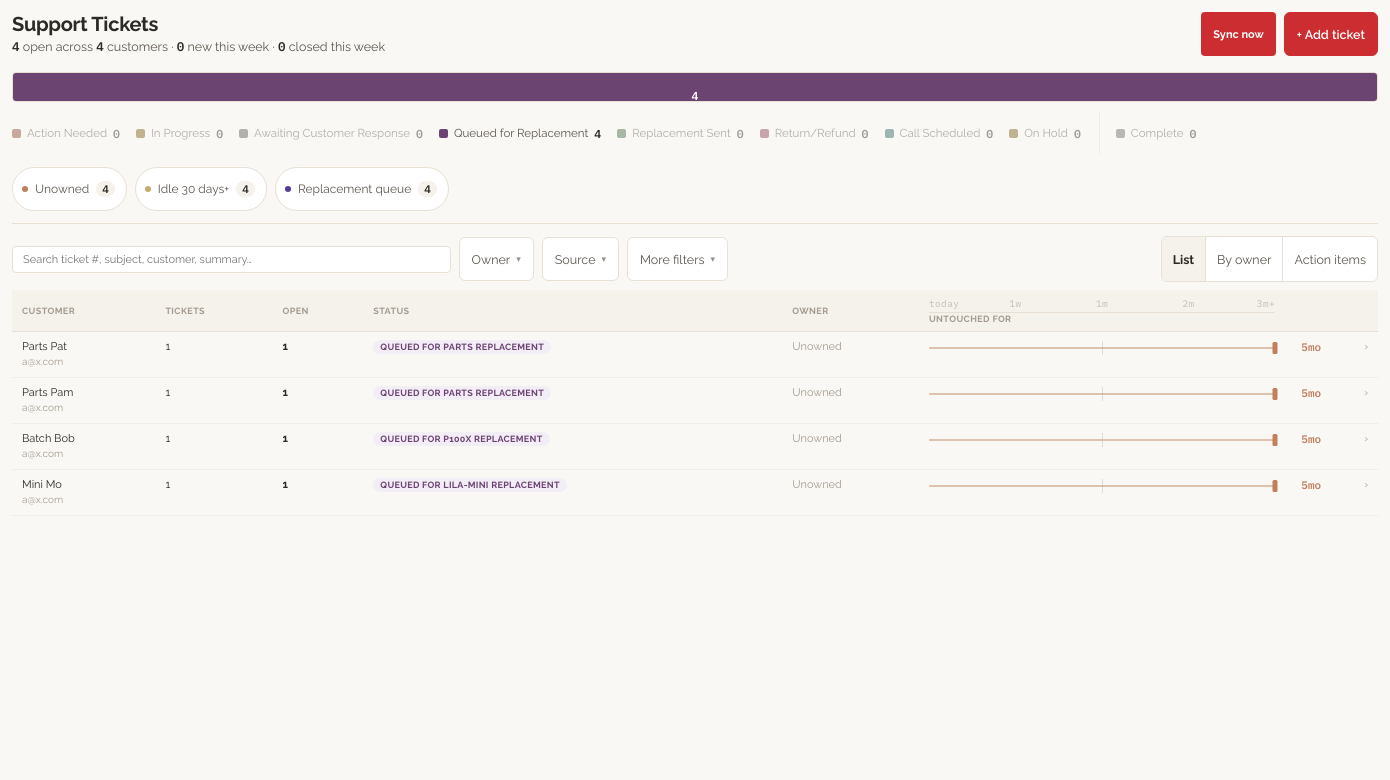
Test case: SupportTab — parts vs batch replacement chips › narrows to parts only
Click the button "Replacement queue 4": point(362, 189) [275,167,449,211]
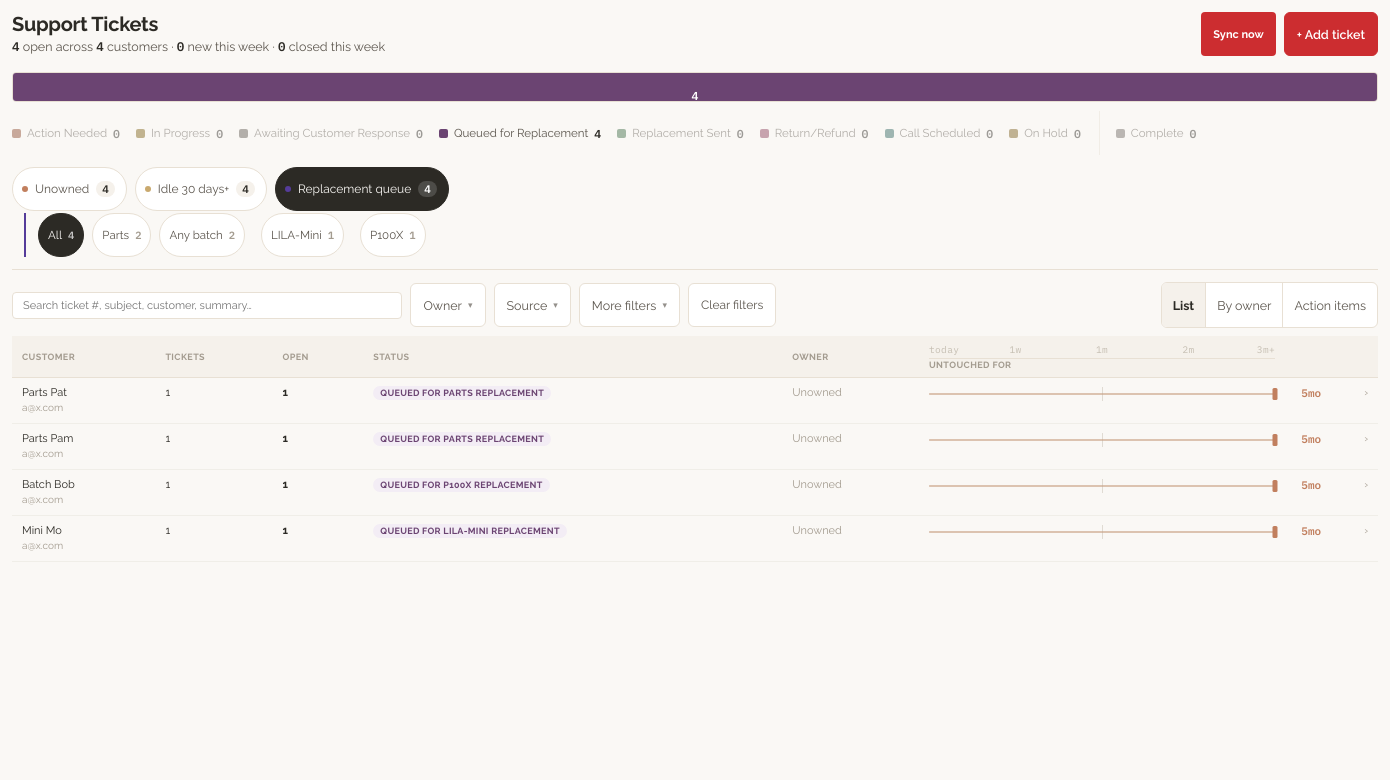
Click the button named "Parts2": point(122, 235) [92,213,151,257]
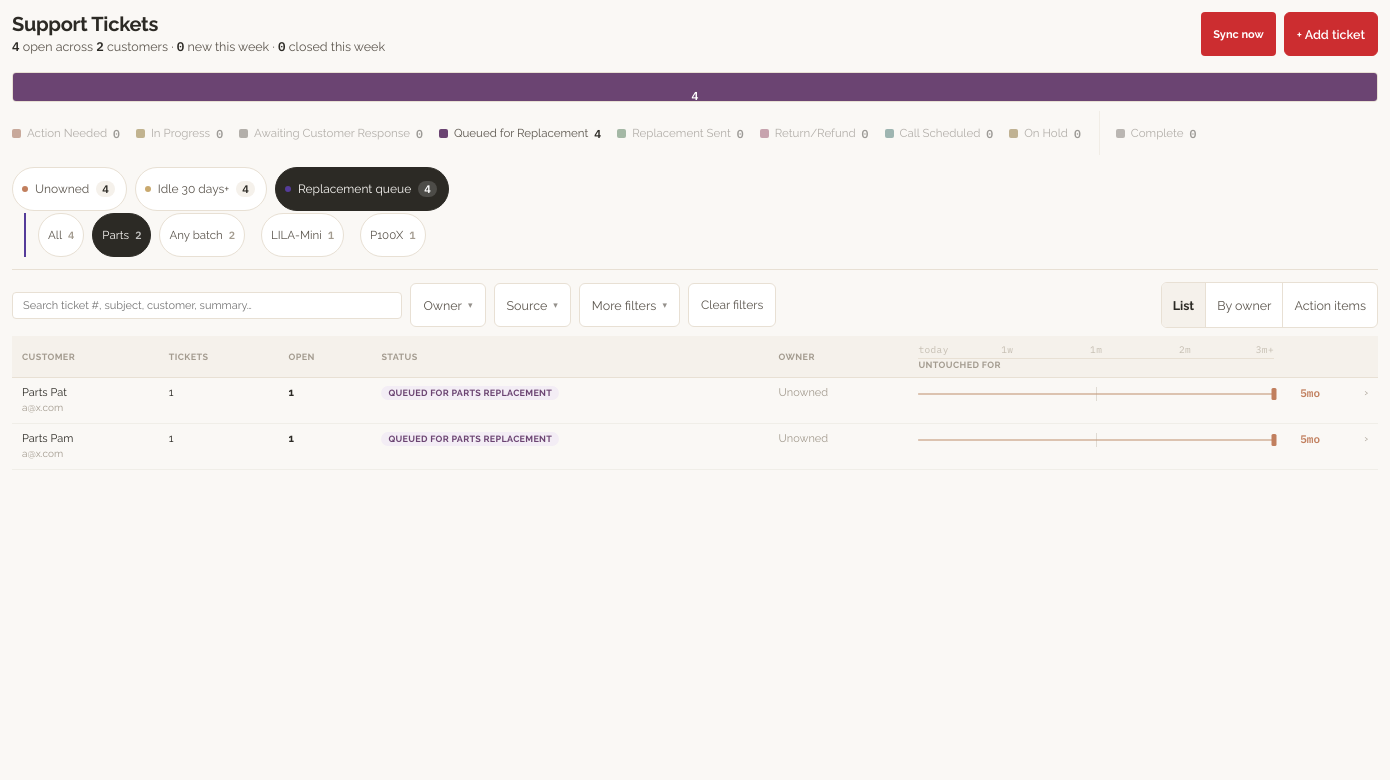
Expected: the table shows "Parts Pat", [22,386,67,399]
Expected: the text "Batch Bob" is gone
Expected: the text "Mini Mo" is gone
